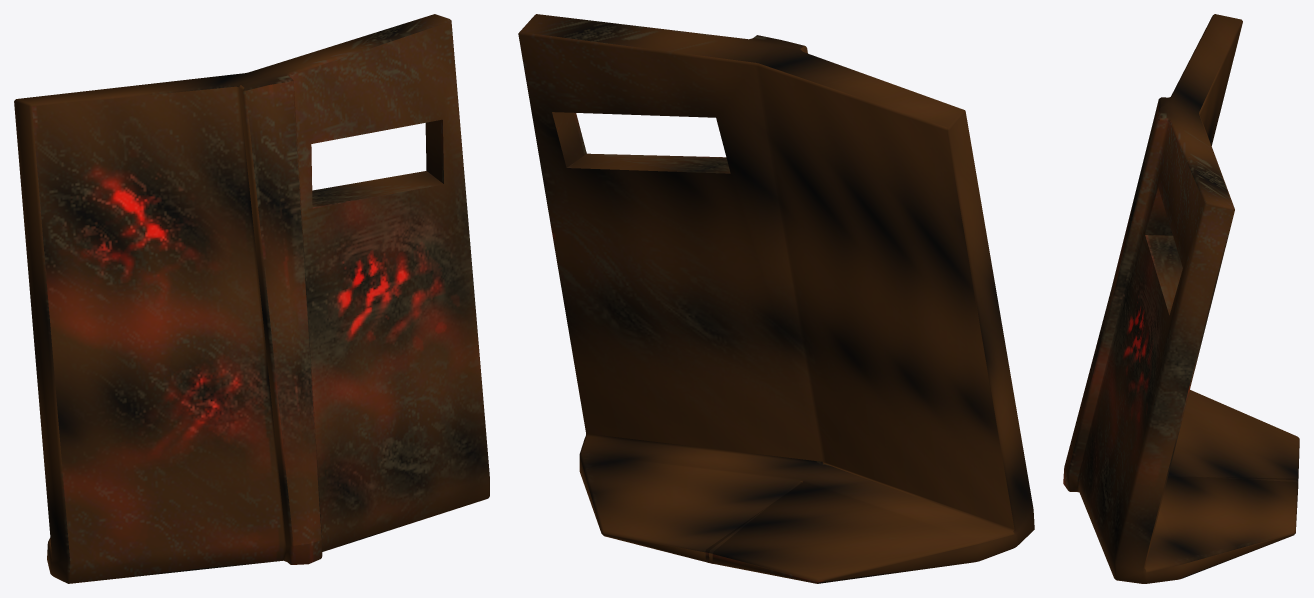
Rendered from Wall.glb.
The picture shows the model from 3 angles, left to right: view 1: azimuth 30°, elevation 25°; view 2: azimuth 150°, elevation 25°; view 3: azimuth 270°, elevation 25°; orthographic projection. The views are drawn at different scales.
Parts seen in each view (by area): view 1: Wall; view 2: Wall; view 3: Wall.
Part boxes in pixels (x1,y1,x2,y2): Wall: [14, 14, 489, 583]; Wall: [518, 14, 1034, 583]; Wall: [1063, 14, 1299, 583].
Bounding box in the file's own units: 2.06 × 2.08 × 1.11.
Materials: 1 (1 with a texture image).
